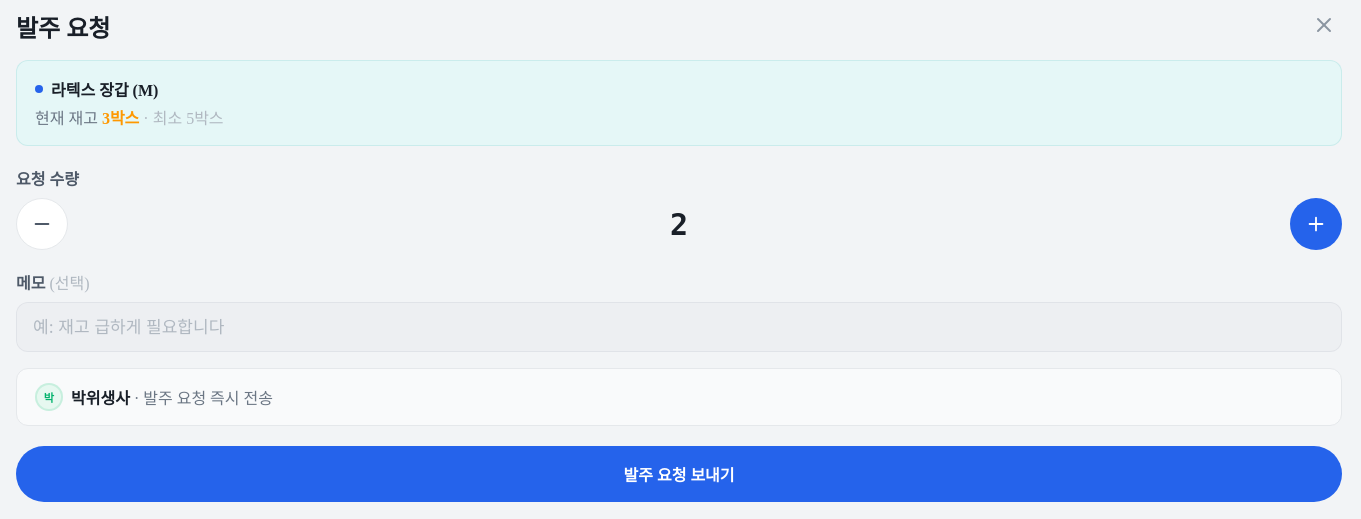
Test: OrderRequestSheet › increments qty when + button is clicked
This screenshot has width=1361, height=519.
Click the 3rd button. click: click(1316, 224)
box: [1290,198,1342,250]
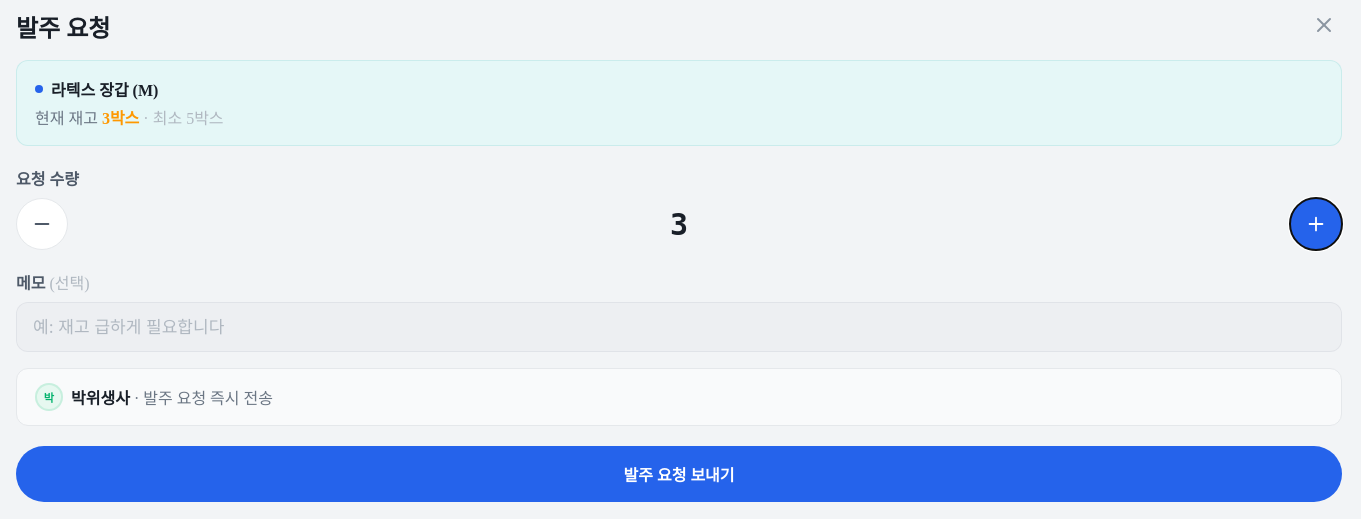
Now the text "3" is shown, box [670,206,688,242]
